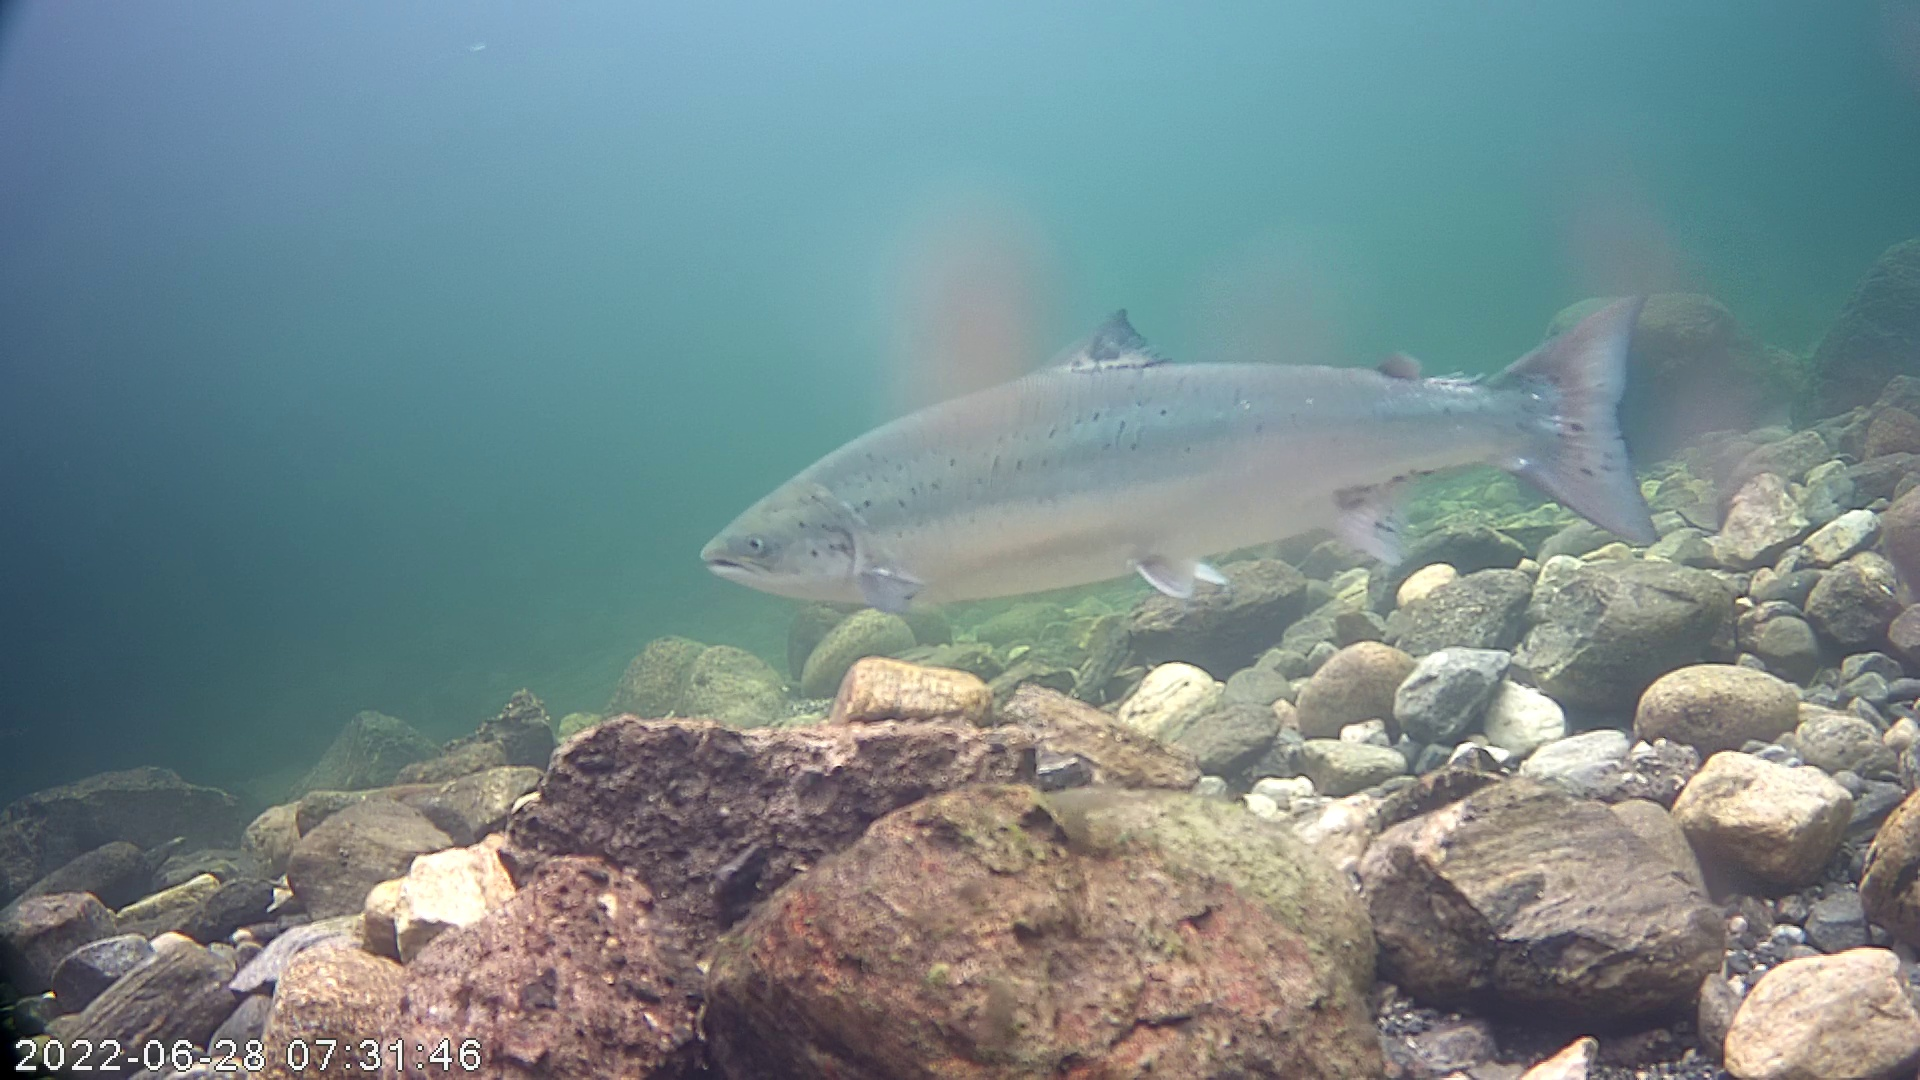salmon: (695, 211, 1668, 669)
